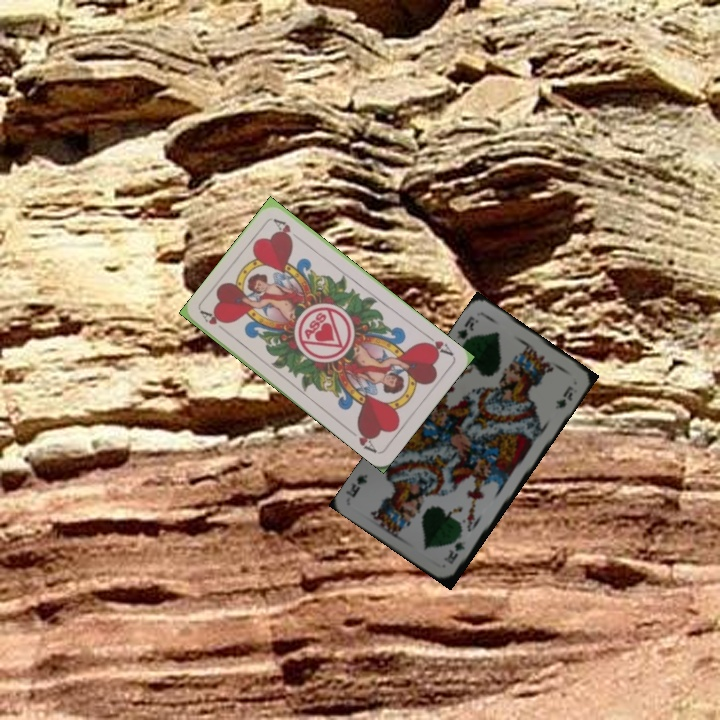GK: (453, 312, 481, 342), (442, 537, 468, 567)
HA: (419, 329, 456, 359), (197, 307, 228, 327)
